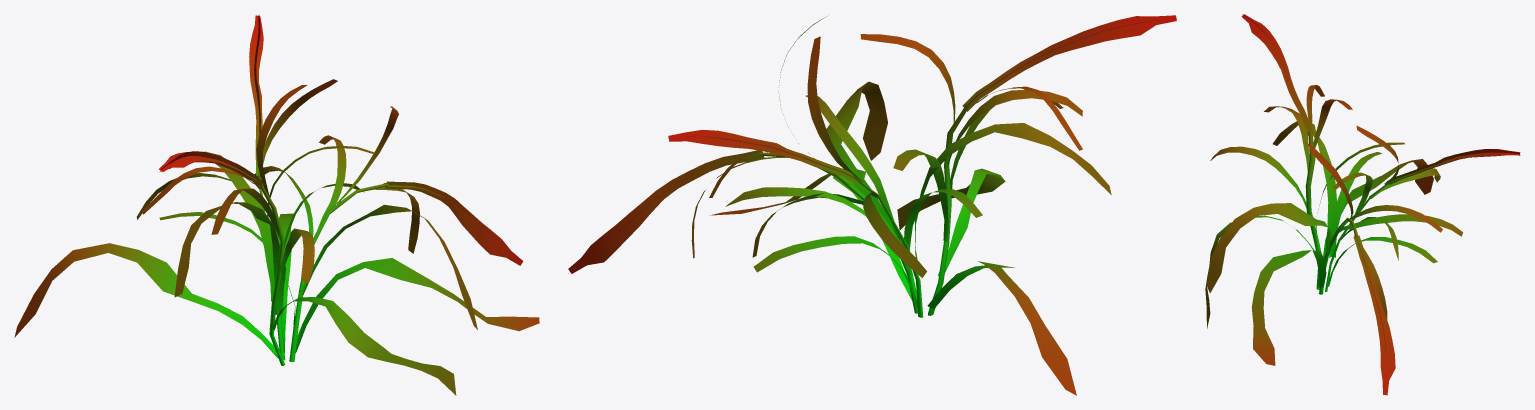
The model's file is tjugaikia_Var3_LOD0.fbx.
3 renders of one model, left to right at view 1: azimuth 30°, elevation 25°; view 2: azimuth 150°, elevation 25°; view 3: azimuth 270°, elevation 25°, orthographic. The views are drawn at different scales.
Visible parts, largest first — view 1: _229b_Var3_LOD0; view 2: _229b_Var3_LOD0; view 3: _229b_Var3_LOD0.
Boxes of the visible parts, x1,y1,x2,y2 form: _229b_Var3_LOD0: [14, 14, 539, 395]; _229b_Var3_LOD0: [568, 15, 1176, 395]; _229b_Var3_LOD0: [1205, 14, 1520, 395].
Bounding box in the file's own units: 55.77 × 30.51 × 40.84.
